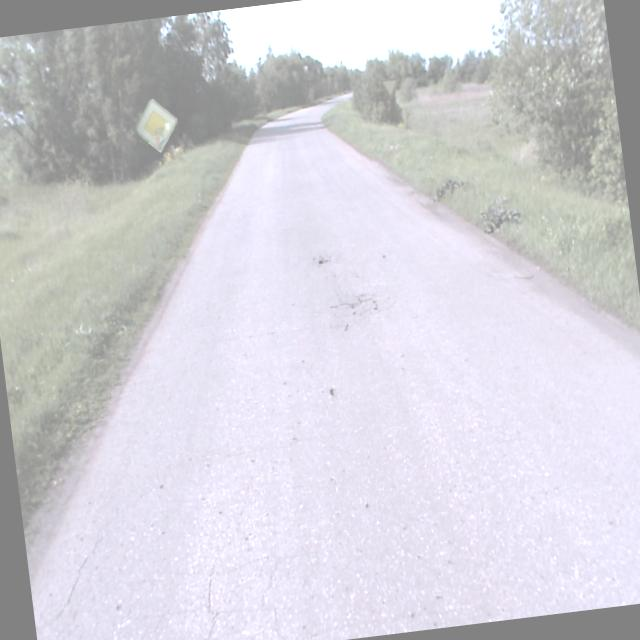road: (26, 107, 640, 640)
